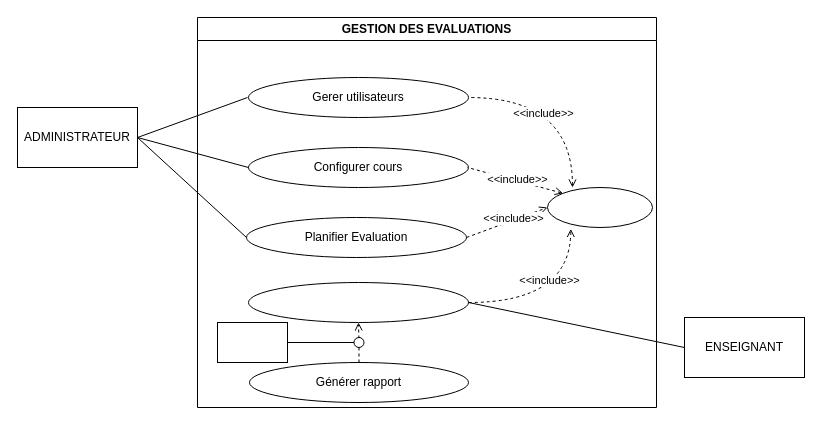
This 822x425 diagram has some shape labels left out. Here are the shapes that lost their labels. From the top down, the centre of each, then its label:
At pixel 599 207: "Authentifier".
At pixel 358 302: "Saisir notes".
At pixel 252 342: "Saisie de note complètement effectuée".
